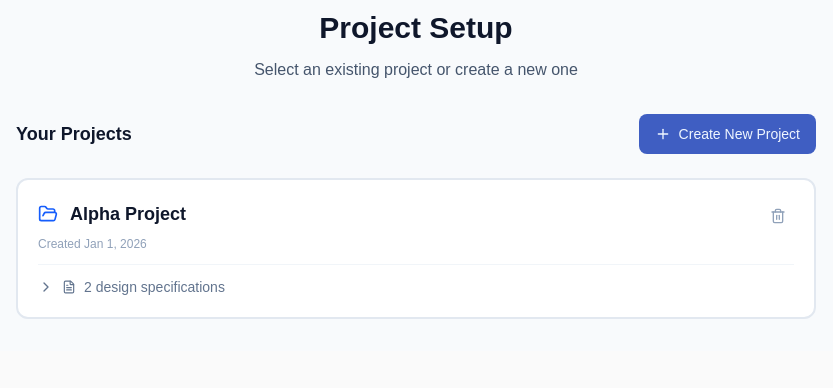
Test case: ProjectsPage — design spec expand/collapse and preview › clicking the toggle a second time collapses the spec list
This screenshot has width=833, height=388.
Expected: the text "2 design specifications" is shown, [84,277,225,297]
What coordinates should you click on to do the following:
click the button "2 design specifications"
I would click on:
 (131, 287)
Its box is [38,277,225,297].
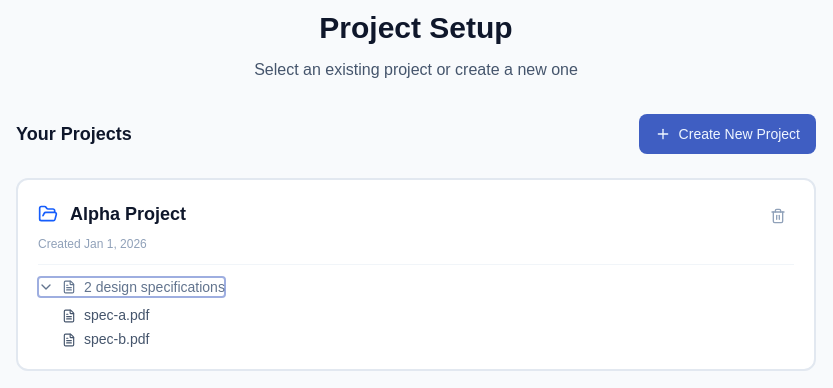
What coordinates should you click on to do the following:
click the button "2 design specifications"
I would click on:
 (131, 287)
Its box is [38,277,225,297].
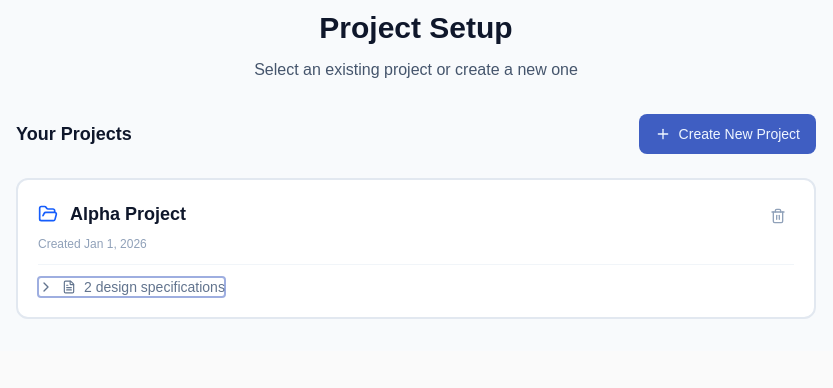
Now the button "spec-a.pdf" is gone
